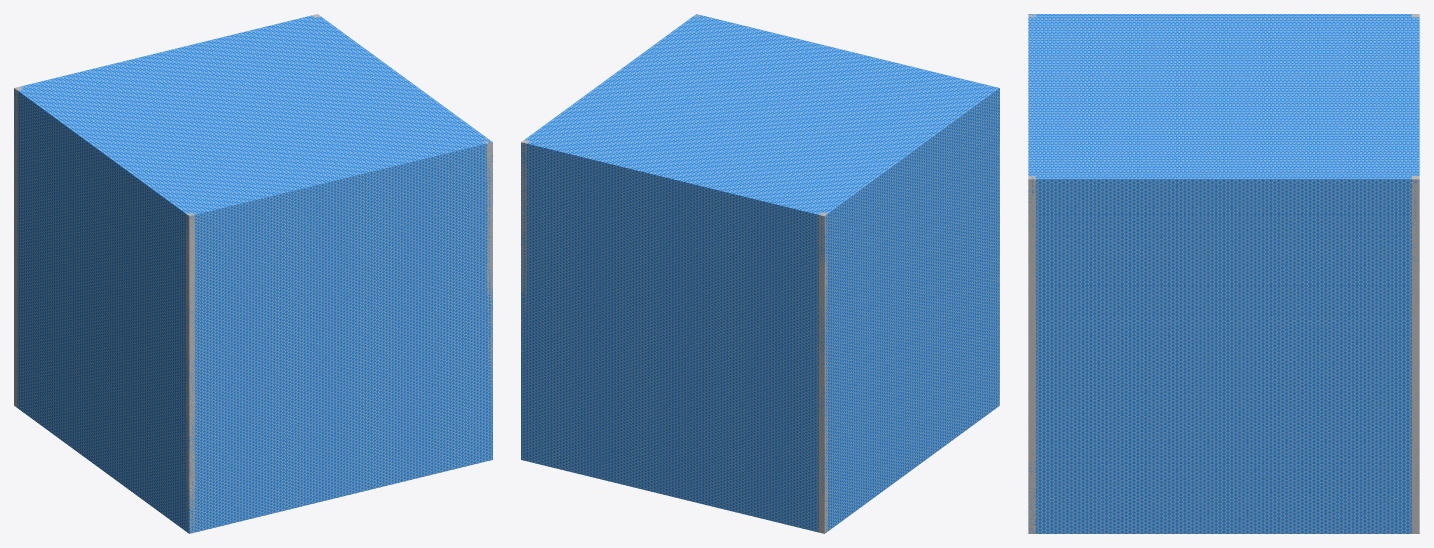
Rendered from Developer_Scene #874960.fbx.
3 views of the same model, side by side, from view 1: azimuth 30°, elevation 25°; view 2: azimuth 150°, elevation 25°; view 3: azimuth 270°, elevation 25° (orthographic). The views are drawn at different scales.
Visible parts, largest first — view 1: Develop_Shield, Develop_Column_1, Develop_Column_4, Develop_Column_2; view 2: Develop_Shield, Develop_Column_2, Develop_Column_3; view 3: Develop_Shield, Develop_Column_3, Develop_Column_4.
Boxes of the visible parts, x1,y1,x2,y2 form: Develop_Shield: [14, 15, 492, 533]; Develop_Column_1: [186, 212, 195, 533]; Develop_Column_4: [483, 140, 492, 456]; Develop_Column_2: [14, 86, 23, 407]; Develop_Shield: [521, 14, 999, 532]; Develop_Column_2: [818, 212, 827, 533]; Develop_Column_3: [521, 139, 530, 359]; Develop_Shield: [1028, 14, 1419, 533]; Develop_Column_3: [1411, 176, 1419, 533]; Develop_Column_4: [1028, 176, 1036, 533].
Bounding box in the file's own units: 50 × 50 × 50.
